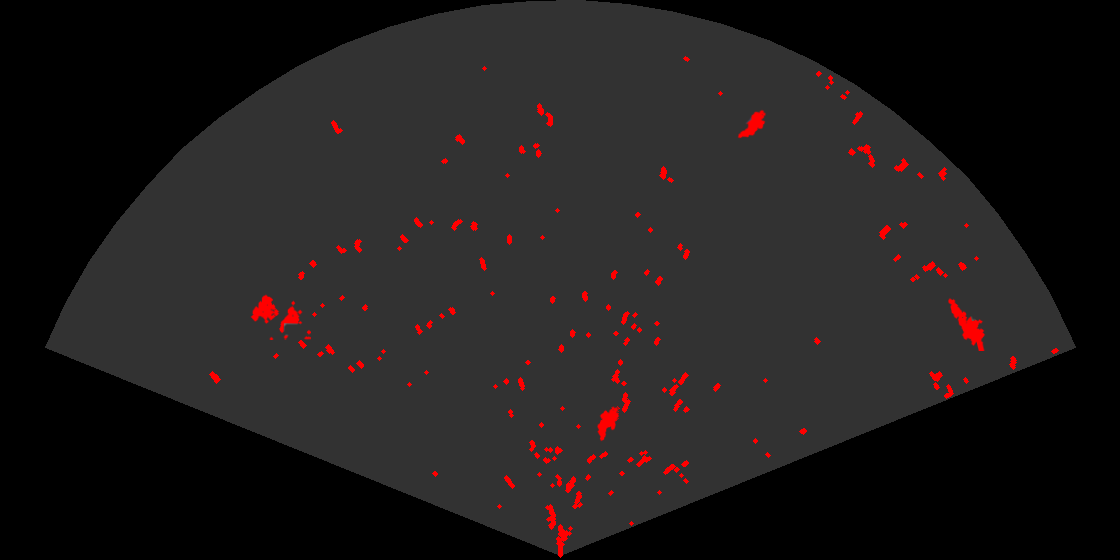AUV: (736, 108, 768, 140), (595, 405, 621, 443)
cage: (249, 293, 311, 340)
frogman: (947, 296, 987, 351)
